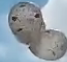Balloon: (8, 1, 41, 44), (29, 30, 67, 61)
